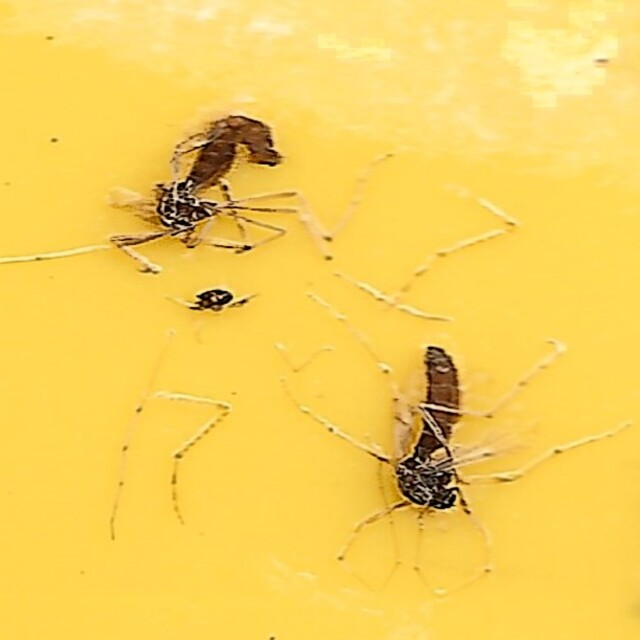Nematocera: (364, 344, 501, 535), (139, 105, 294, 241)
